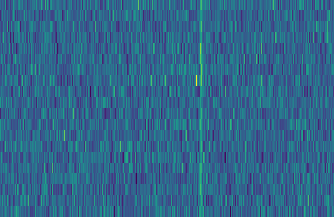signal: (196, 0, 205, 217)
